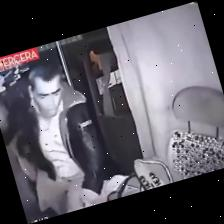person: (12, 66, 107, 214)
